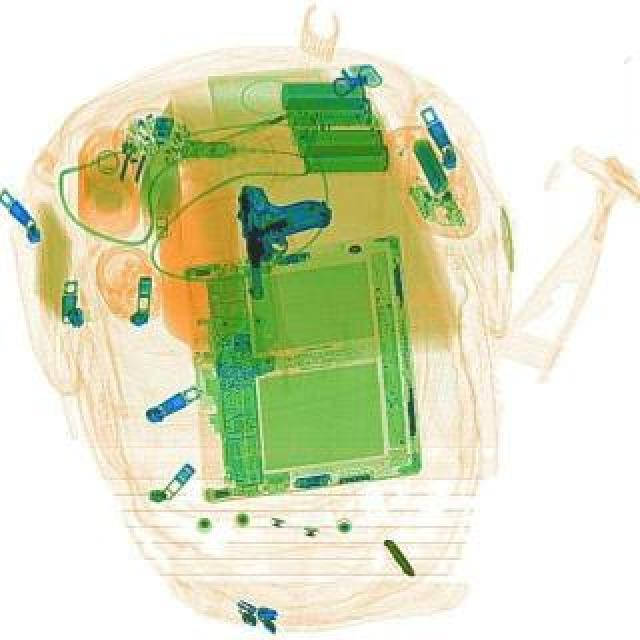gun: (238, 182, 334, 298)
